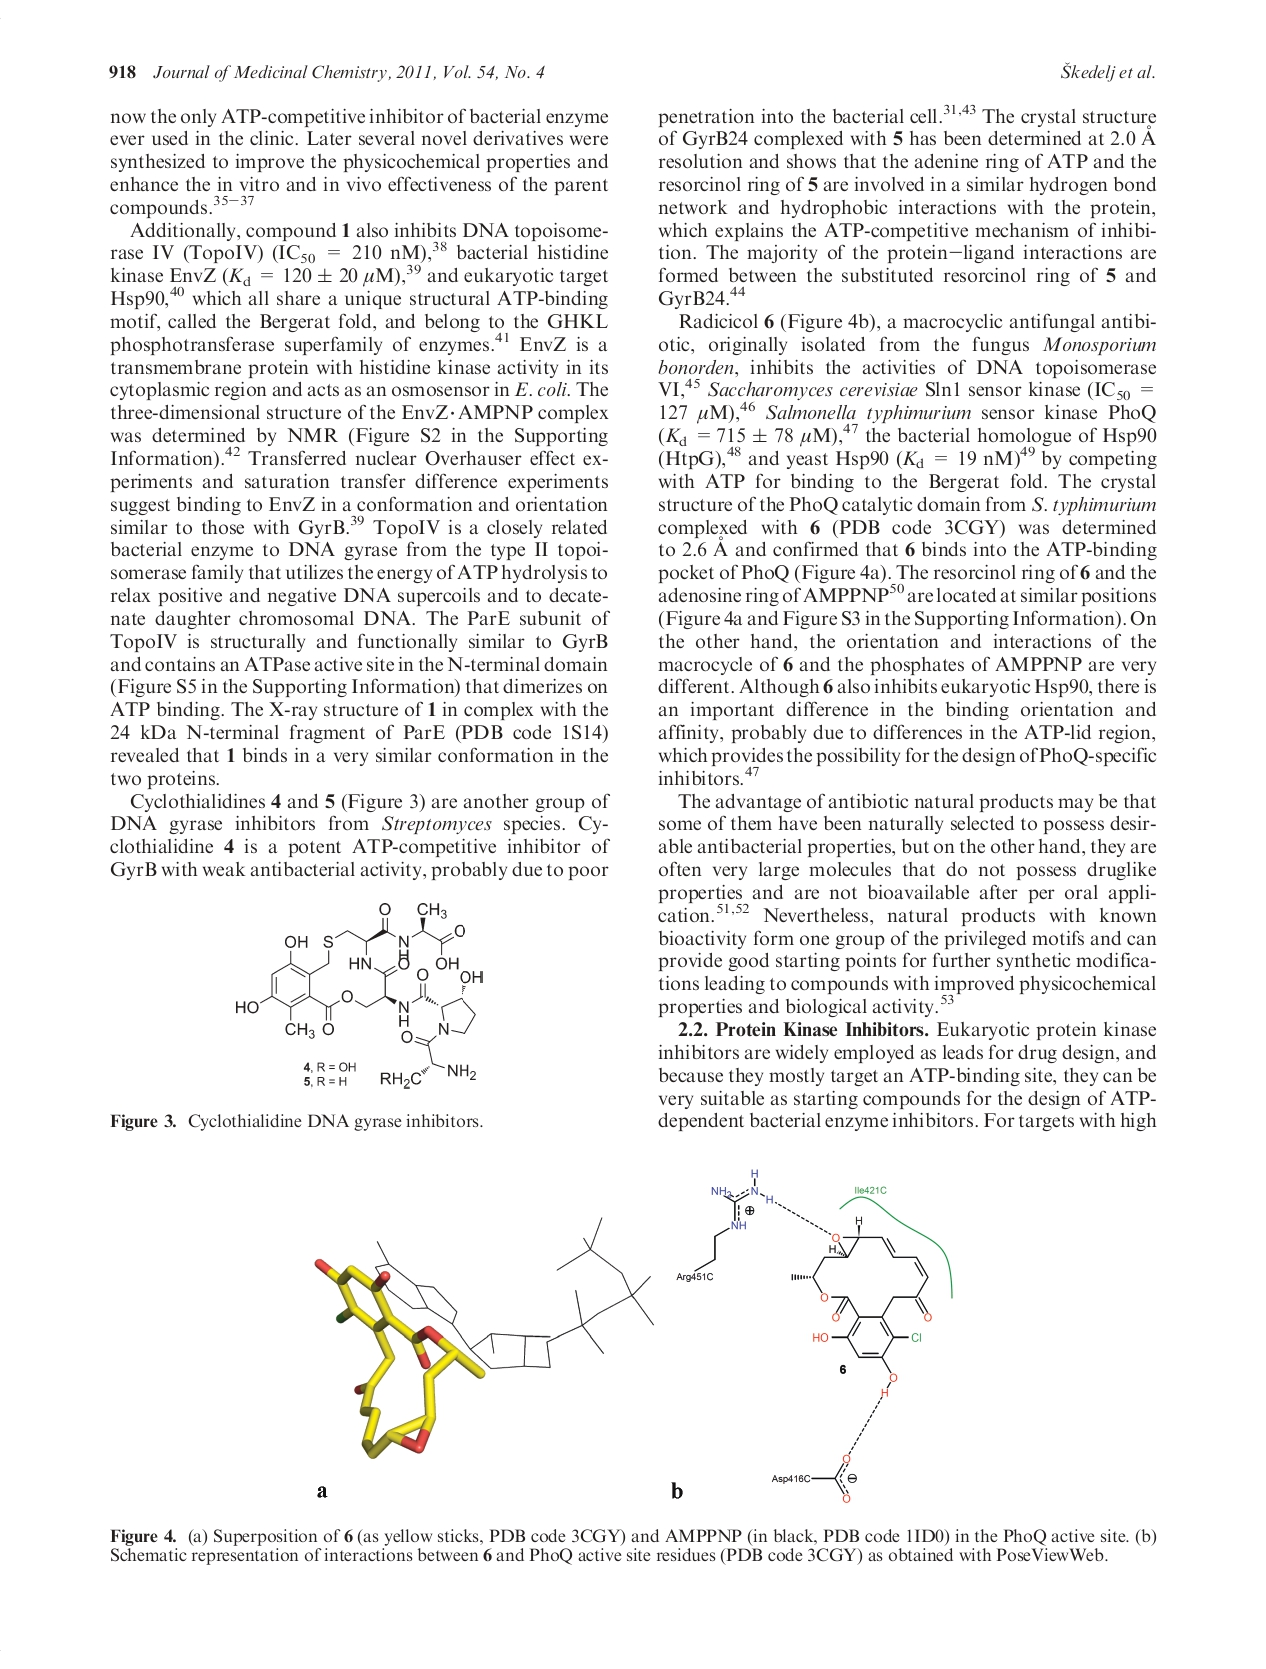exist_molecular: (231, 899, 485, 1097), (789, 1210, 940, 1400), (673, 1164, 777, 1286), (765, 1448, 864, 1507)
